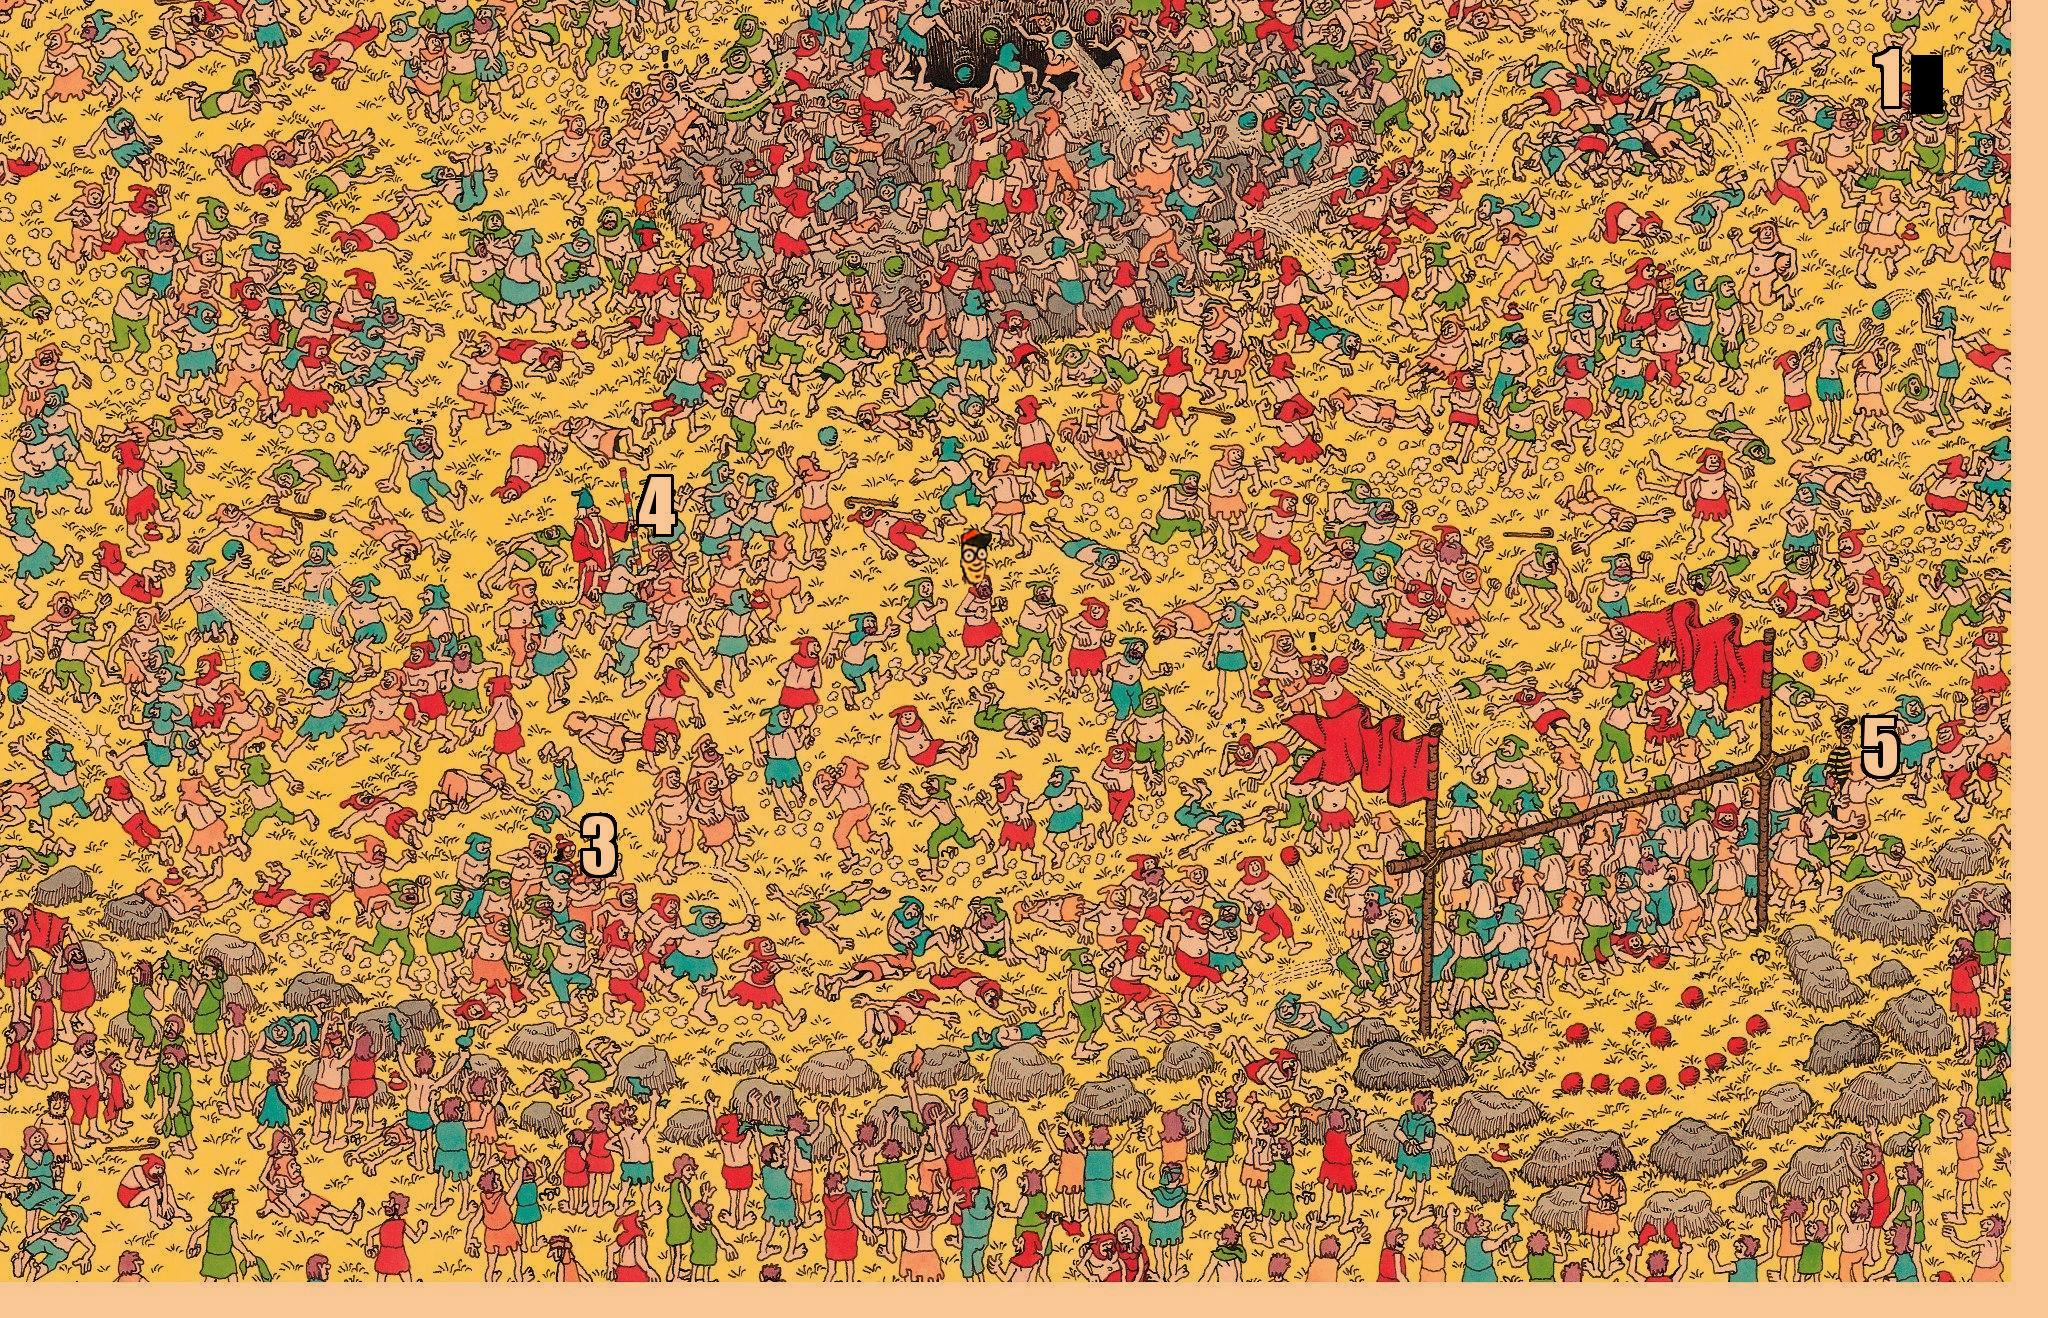waldos: (960, 528, 993, 587)
